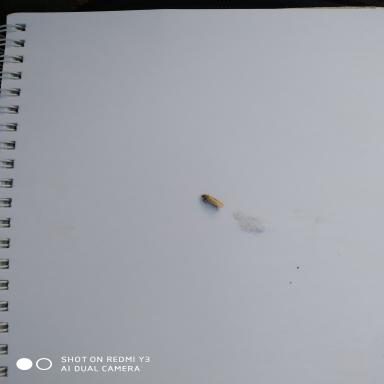pbw: (200, 194, 225, 212)
